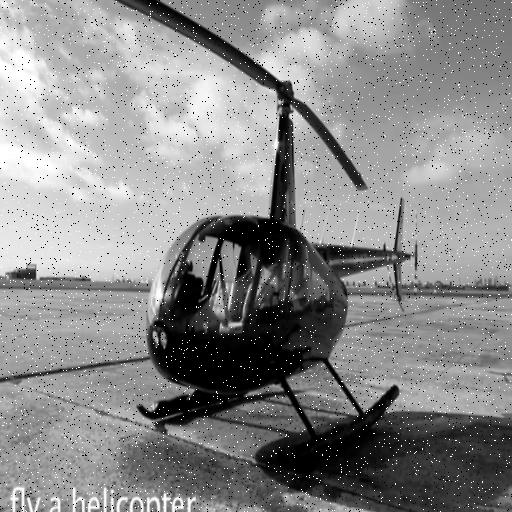helicopter: (1, 1, 434, 479)
